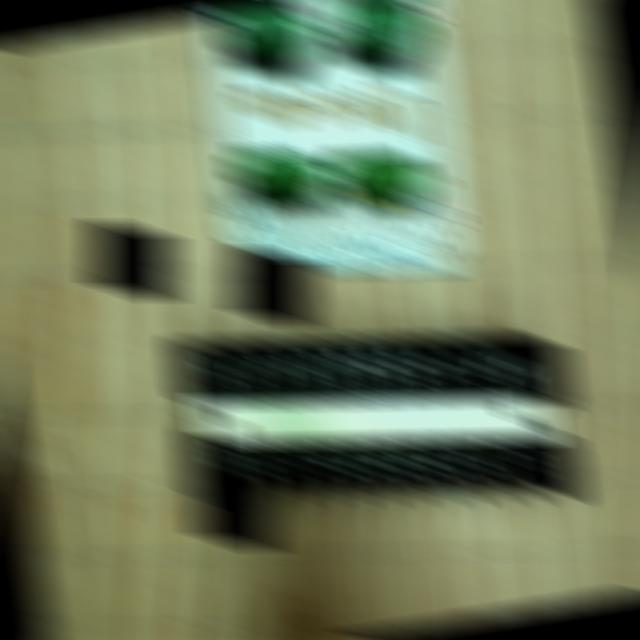Flathead_Block: (172, 338, 581, 503)
Terminal_1: (336, 149, 431, 203), (237, 148, 330, 200)
Terminal_2: (335, 0, 425, 50), (224, 5, 312, 54)
